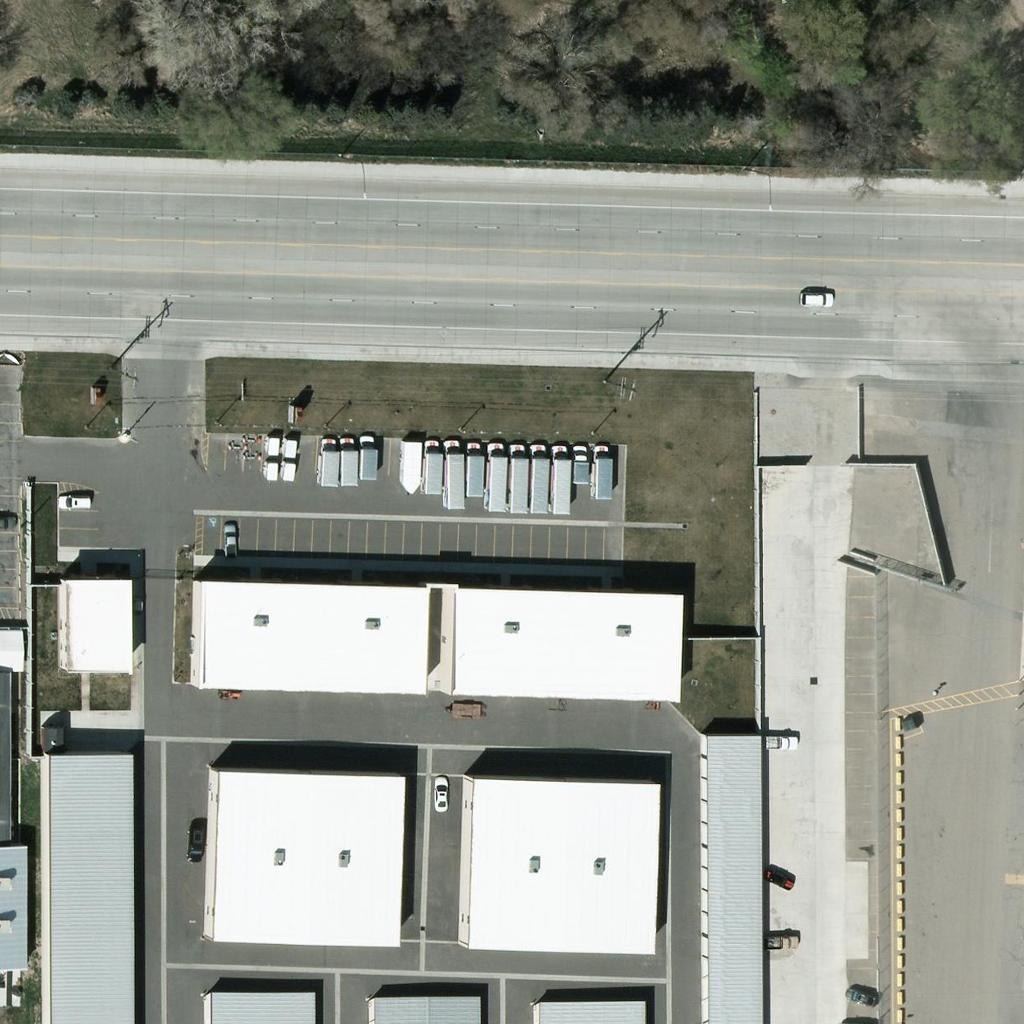car: (799, 282, 833, 316), (59, 484, 93, 518), (214, 520, 248, 554), (766, 726, 800, 760), (424, 776, 458, 810), (177, 830, 211, 864), (762, 862, 796, 896), (768, 925, 802, 959), (842, 979, 876, 1013)
